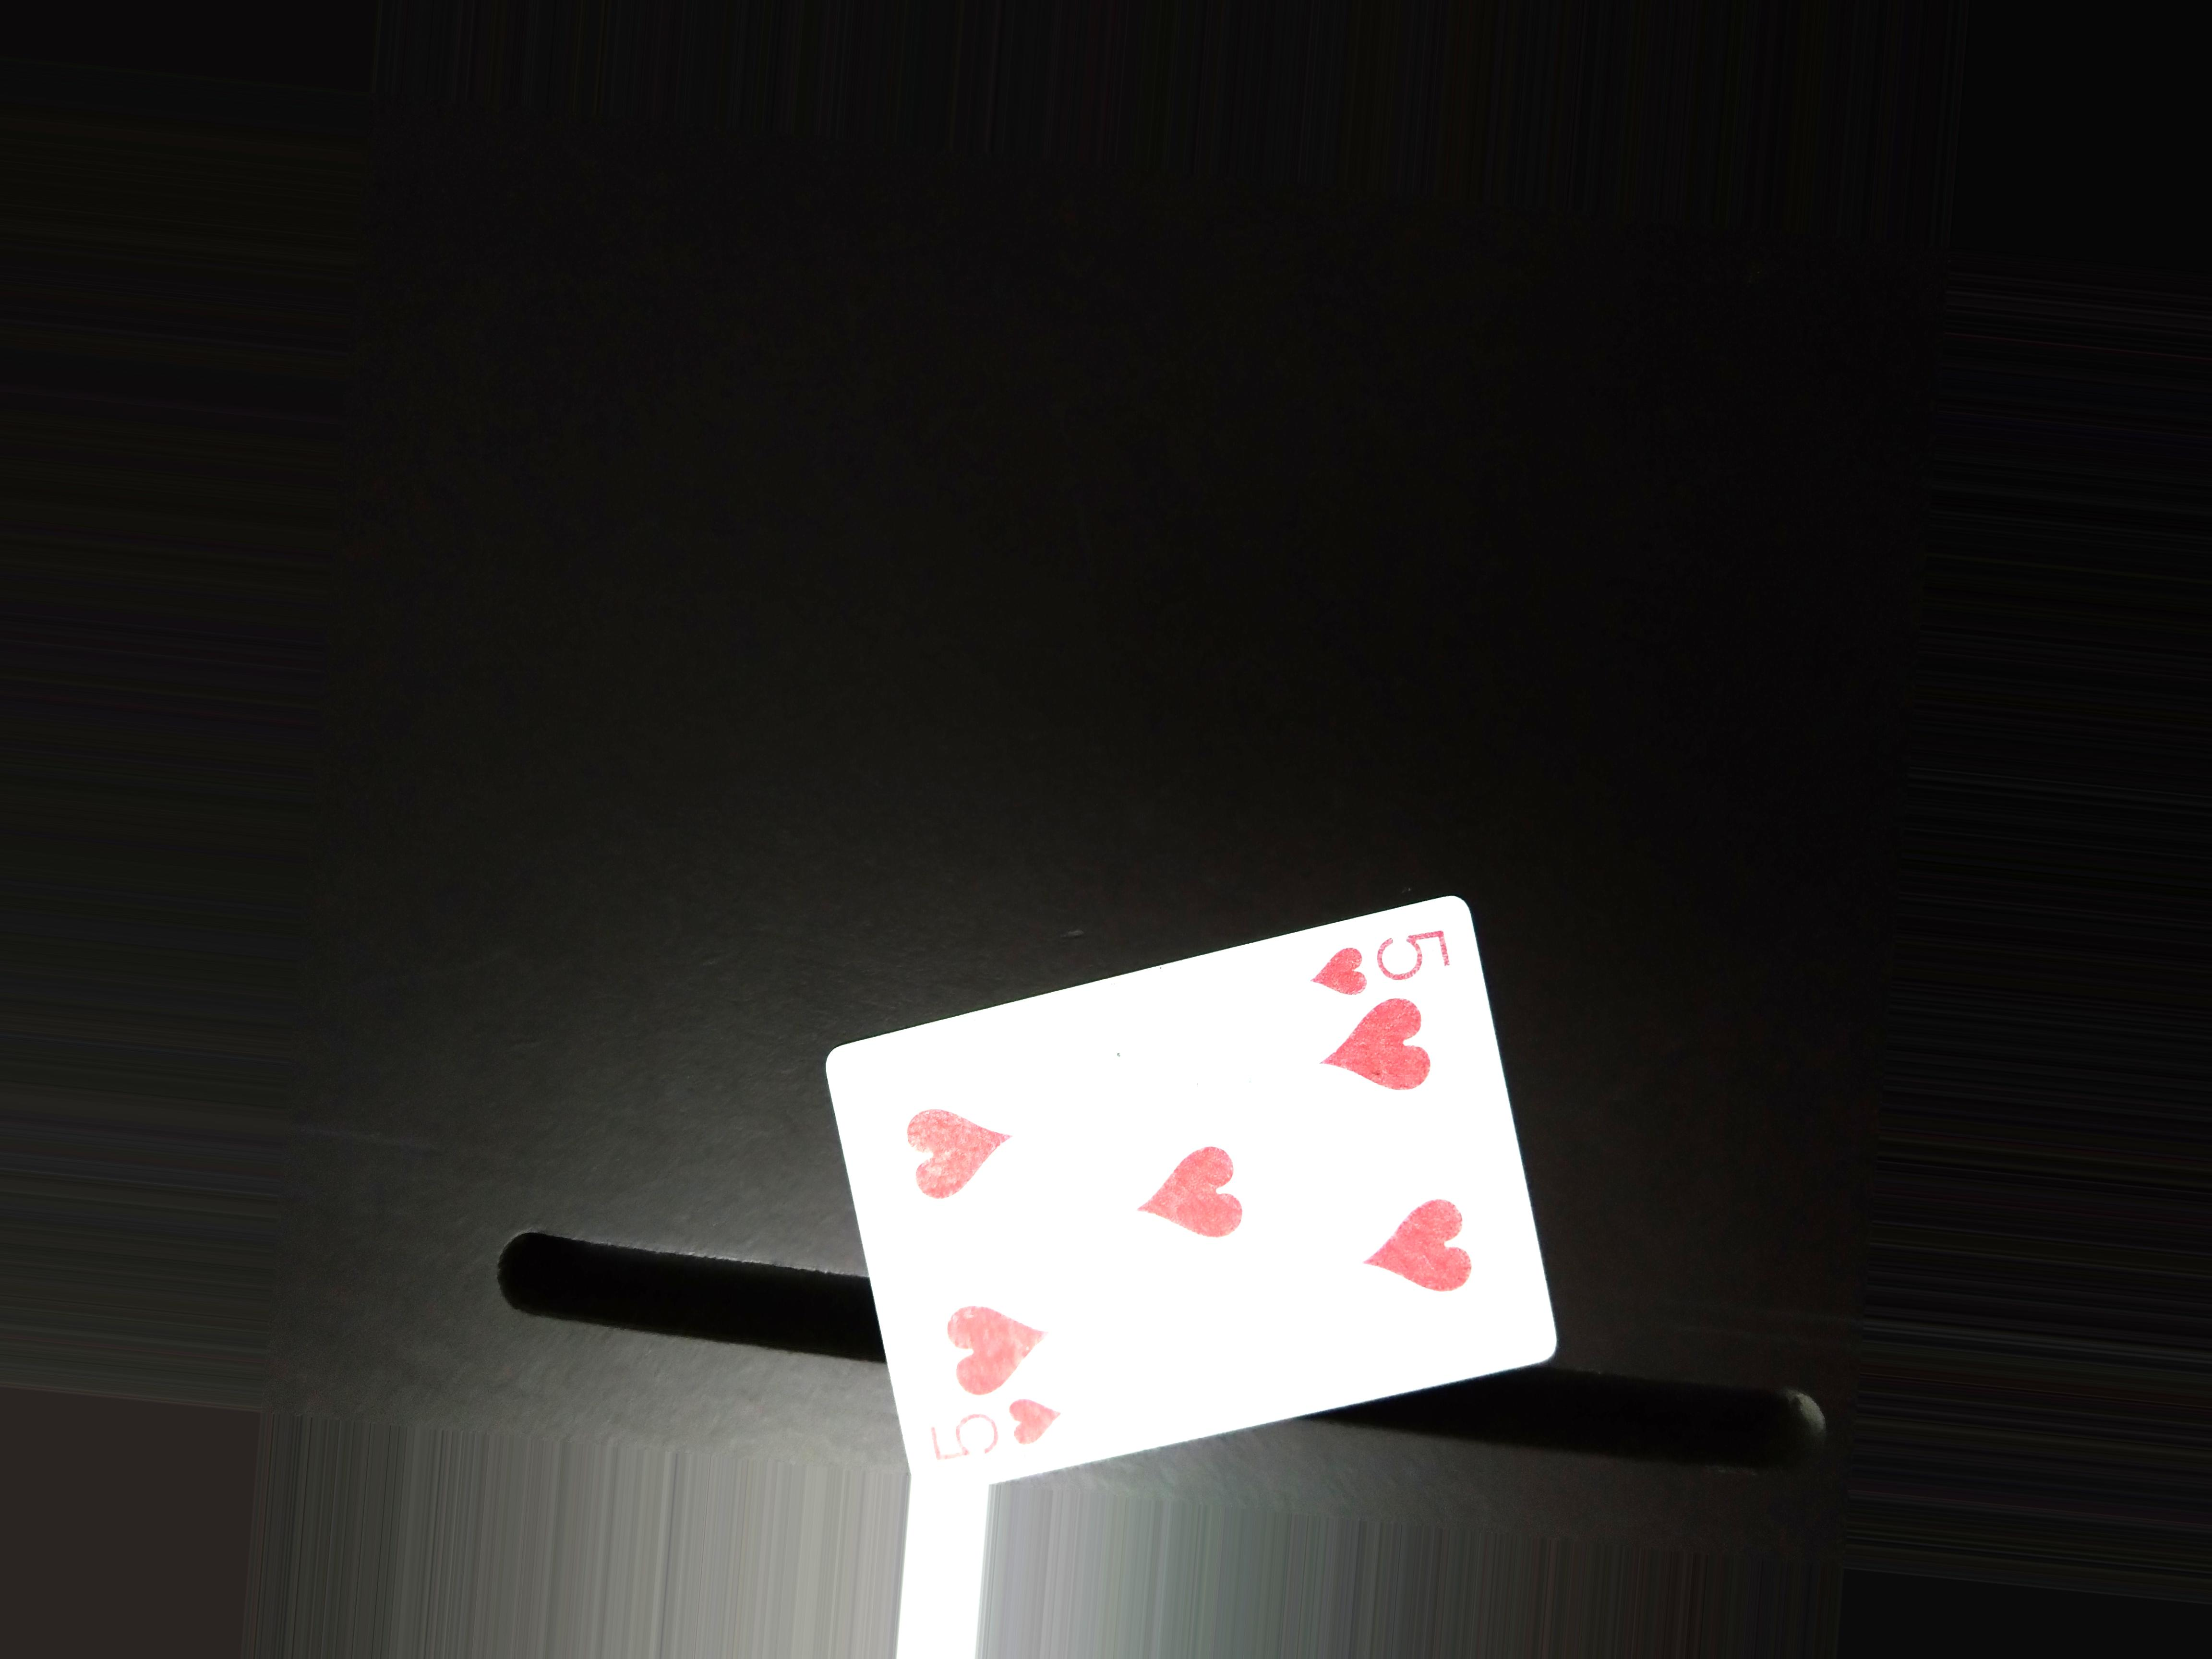5H: (1313, 920, 1456, 1007)
